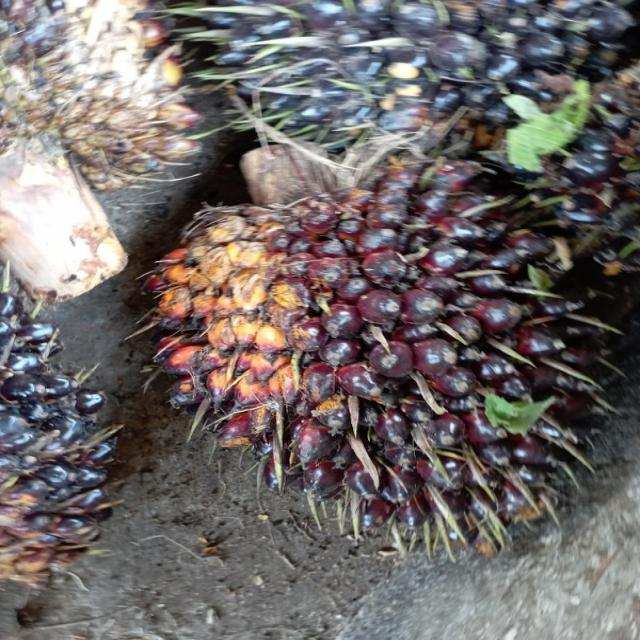fraksi 1: (169, 175, 607, 524)
